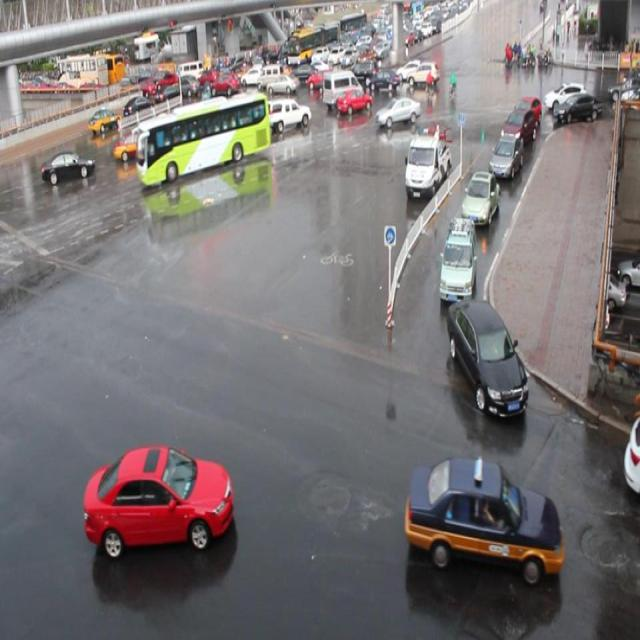bus: (402, 129, 452, 202)
car: (404, 455, 563, 581), (84, 442, 235, 556), (446, 298, 528, 417), (439, 218, 475, 300), (459, 170, 500, 225), (199, 112, 247, 150), (41, 150, 96, 182), (144, 126, 192, 160), (166, 108, 209, 144), (488, 135, 522, 178), (266, 98, 311, 130), (376, 97, 421, 126), (499, 109, 534, 145), (113, 129, 153, 158), (517, 94, 543, 132), (336, 87, 371, 113)
truck: (228, 90, 271, 128), (322, 70, 363, 103)
van: (138, 91, 267, 185)
